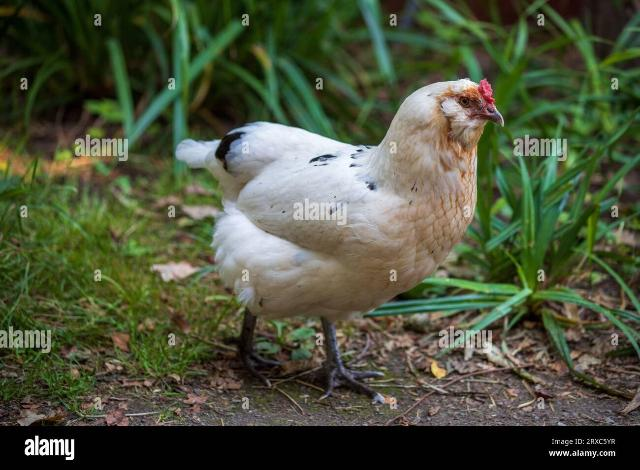Chicken: (174, 76, 505, 404)
